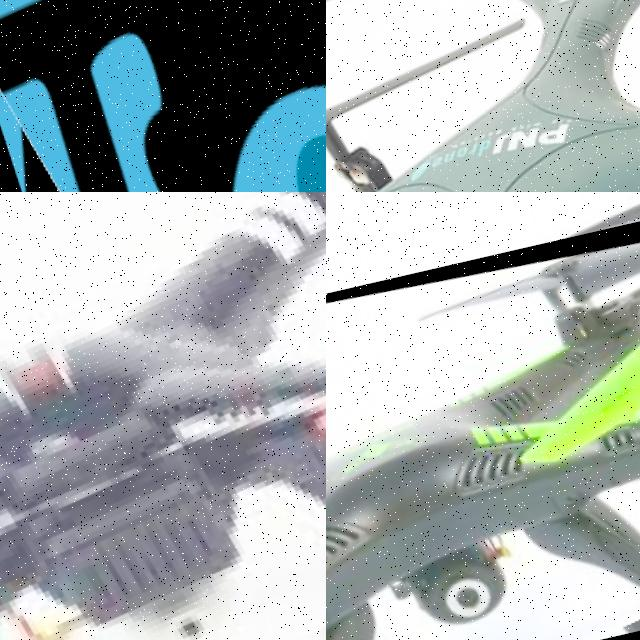drone: (0, 192, 326, 640), (326, 209, 640, 640), (0, 0, 326, 192), (326, 0, 640, 192)
